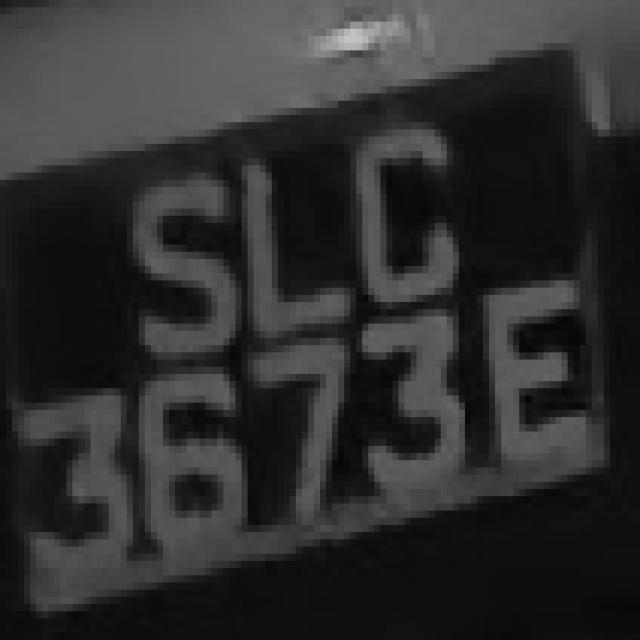3: (12, 374, 133, 590), (356, 302, 465, 518)
6: (133, 367, 272, 575)
7: (235, 331, 368, 518)
C: (350, 93, 465, 331)
E: (483, 252, 610, 489)
L: (211, 136, 332, 360)
S: (109, 144, 223, 374)
